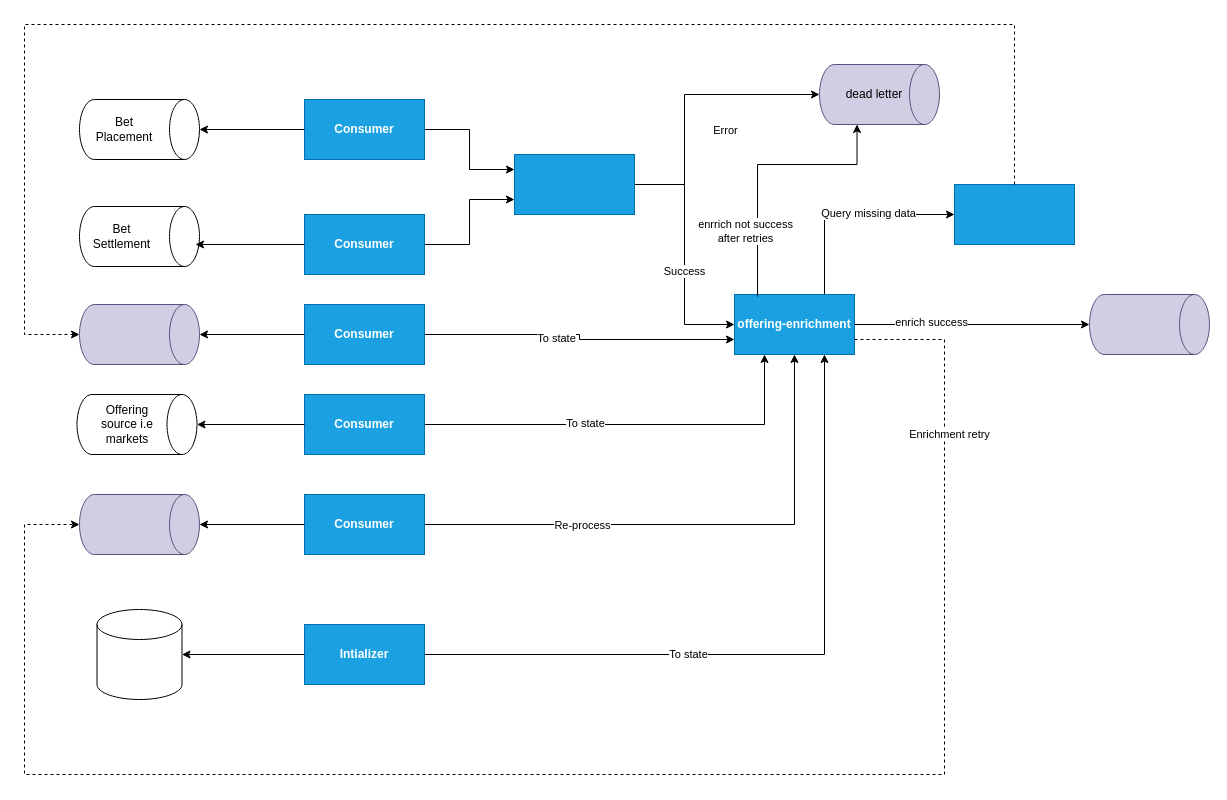
The diagram is 1227 pixels wide and 800 high, and some of its shapes have lost their labels. Each missing label, with the box of its shape:
async query: (954, 184, 1074, 244)
bet-validation: (514, 154, 634, 214)
enriched bet: (1088, 294, 1210, 354)
Not enriched: (78, 494, 200, 554)
On demand: (78, 304, 200, 364)
Starrocks: (96, 608, 182, 700)
